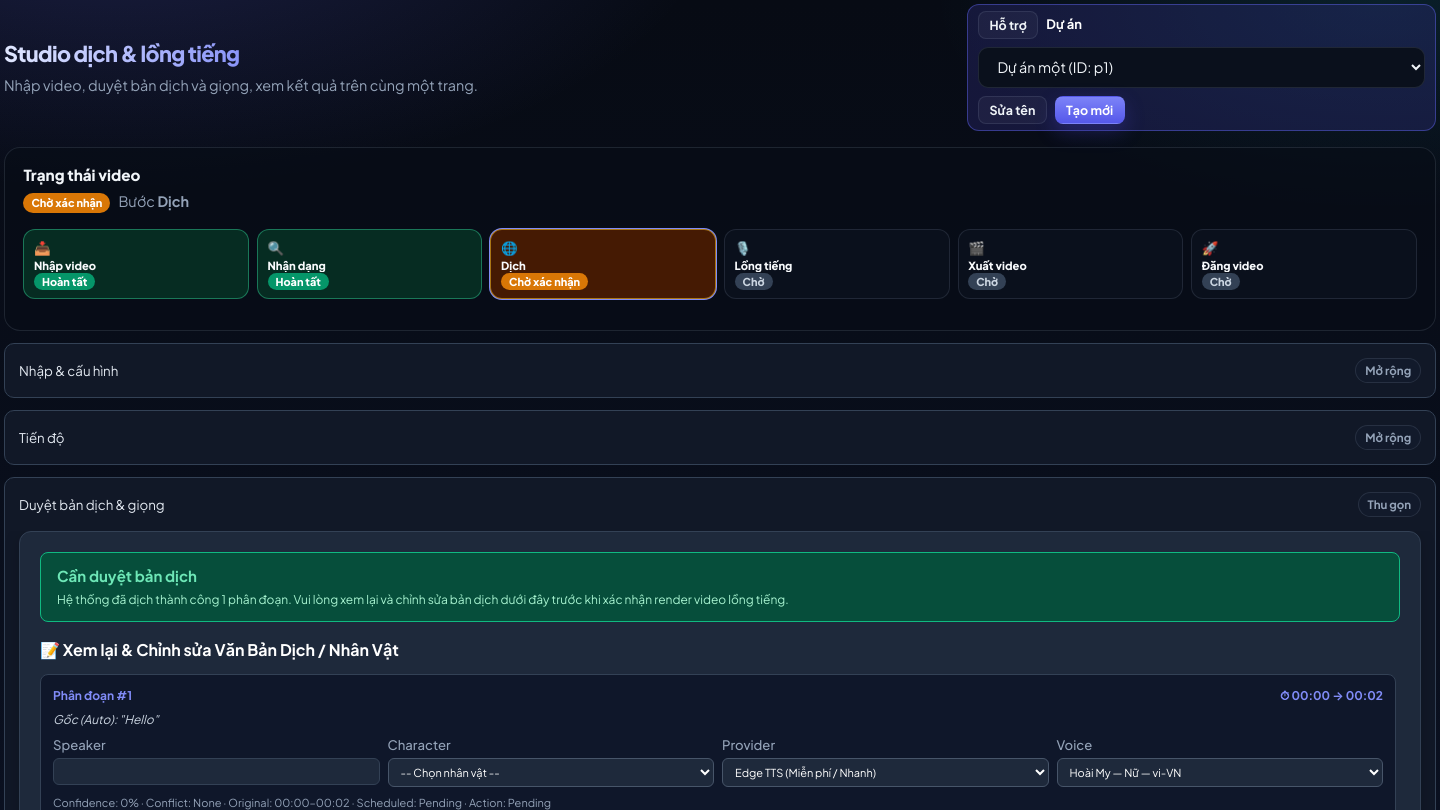
it: reloads the original job when returning to its project after switching away
Select "Dự án hai (ID: p2)" in the dropdown named "Dự án" at (1201, 68), box top-left (978, 47), bottom-right (1425, 88)
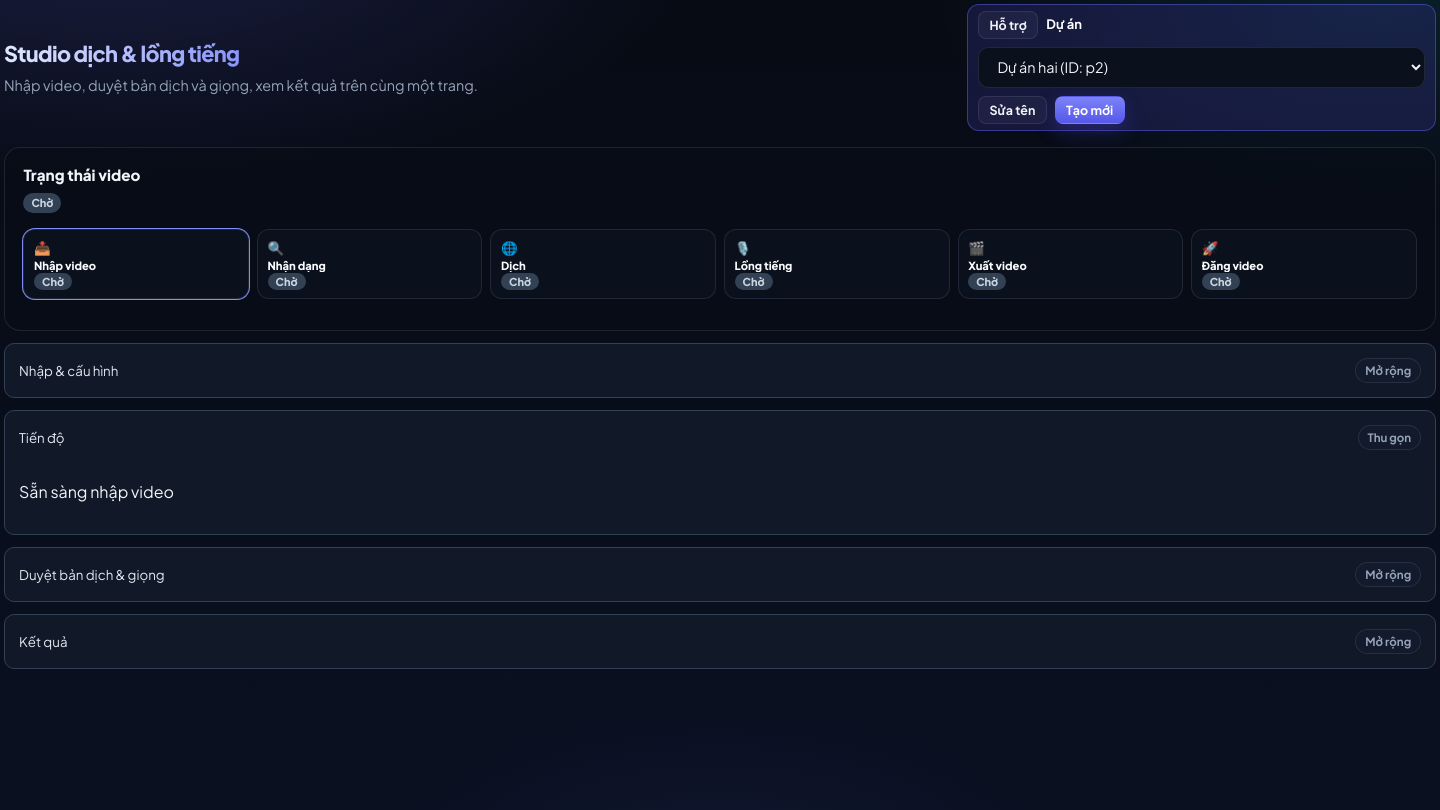
Expected: the field showing "Xin chào" is not shown
Select "Dự án một (ID: p1)" in the dropdown named "Dự án" at (1201, 68), box top-left (978, 47), bottom-right (1425, 88)
(page scrolled)
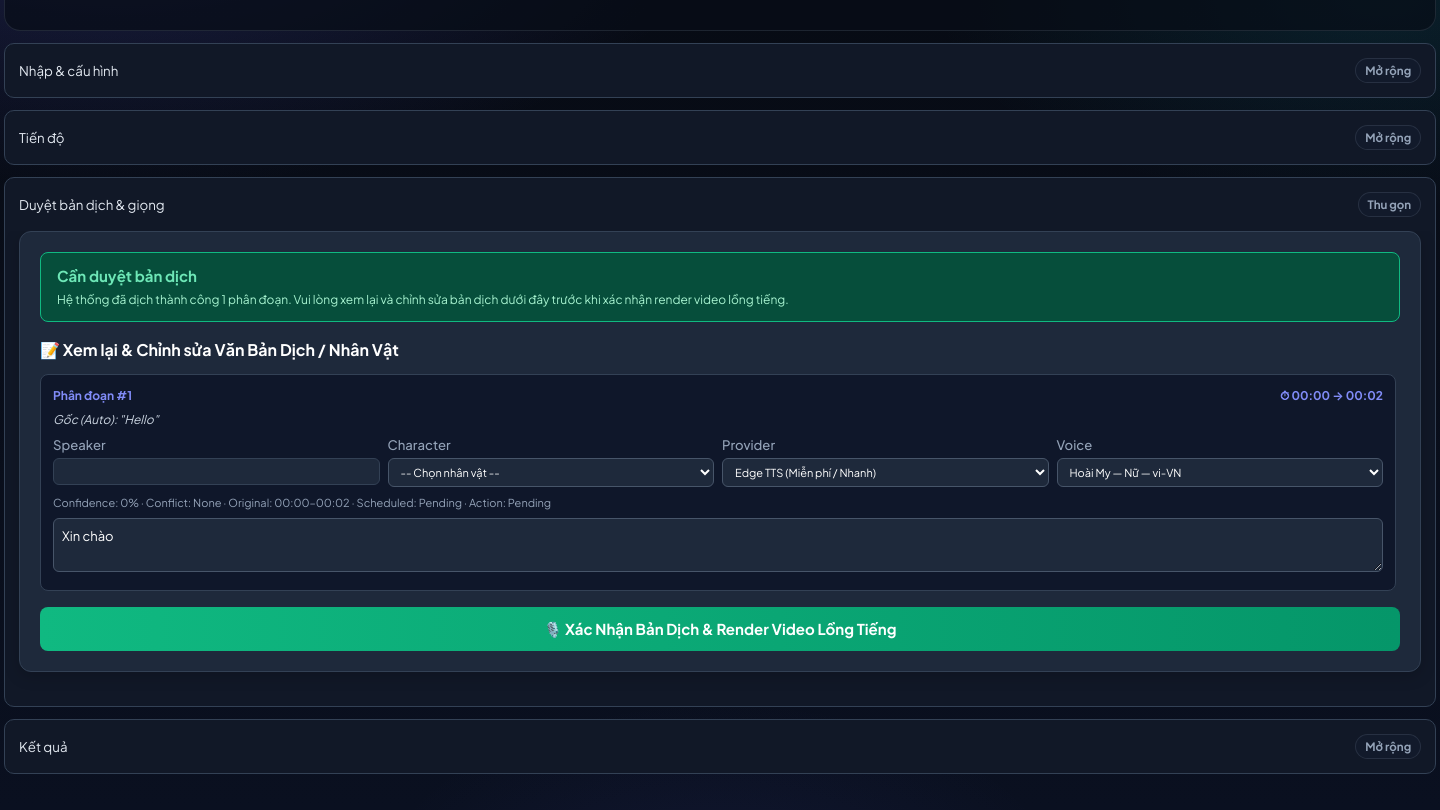
Result: the text box showing "Xin chào" is shown at top-left (53, 518), bottom-right (1383, 572)
